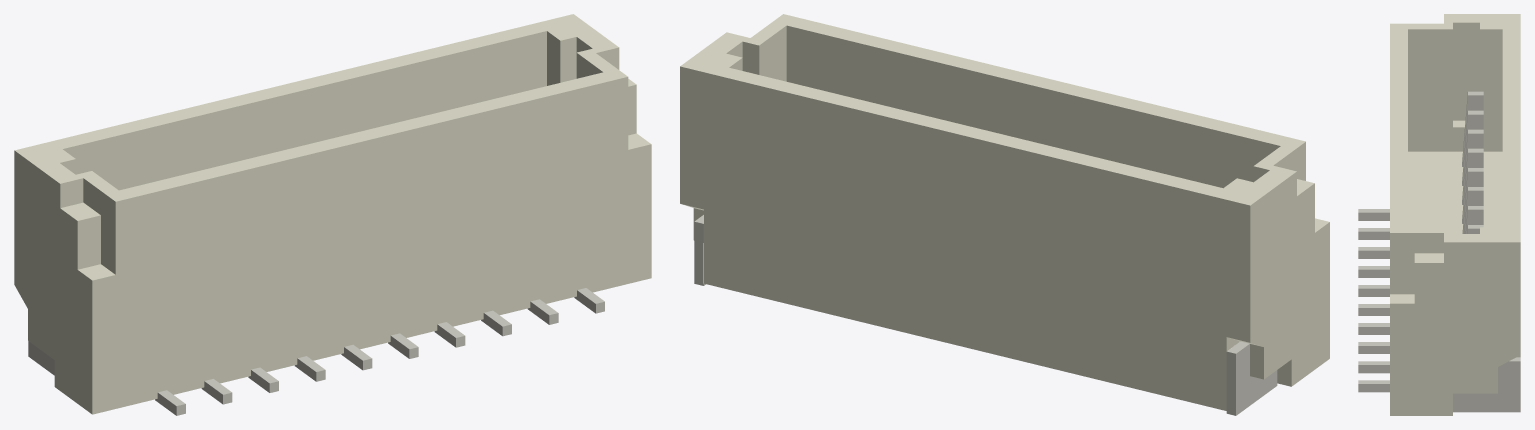
File: kc-jst_sh_bm10b-srss-tb_1x10-1mp_p1.00mm_vertical.glb
3 views of the same model, side by side, from view 1: azimuth 30°, elevation 25°; view 2: azimuth 150°, elevation 25°; view 3: azimuth 270°, elevation 25° (orthographic). The views are drawn at different scales.
Visible parts, largest first — view 1: 0.75_0.75_0.6666666666666666_0, 0.6666666666666666_0.6666666666666666_0.5833333333333334_0.8; view 2: 0.75_0.75_0.6666666666666666_0, 0.6666666666666666_0.6666666666666666_0.5833333333333334_0.8; view 3: 0.75_0.75_0.6666666666666666_0, 0.6666666666666666_0.6666666666666666_0.5833333333333334_0.8.
Part boxes in pixels (<box>): 0.75_0.75_0.6666666666666666_0: <box>14,14,651,414</box>; 0.6666666666666666_0.6666666666666666_0.5833333333333334_0.8: <box>28,288,604,415</box>; 0.75_0.75_0.6666666666666666_0: <box>680,14,1329,410</box>; 0.6666666666666666_0.6666666666666666_0.5833333333333334_0.8: <box>694,215,1277,415</box>; 0.75_0.75_0.6666666666666666_0: <box>1390,14,1520,415</box>; 0.6666666666666666_0.6666666666666666_0.5833333333333334_0.8: <box>1358,91,1520,412</box>.
Size of the model in its own units: 1.2 by 0.432 by 0.3601.
